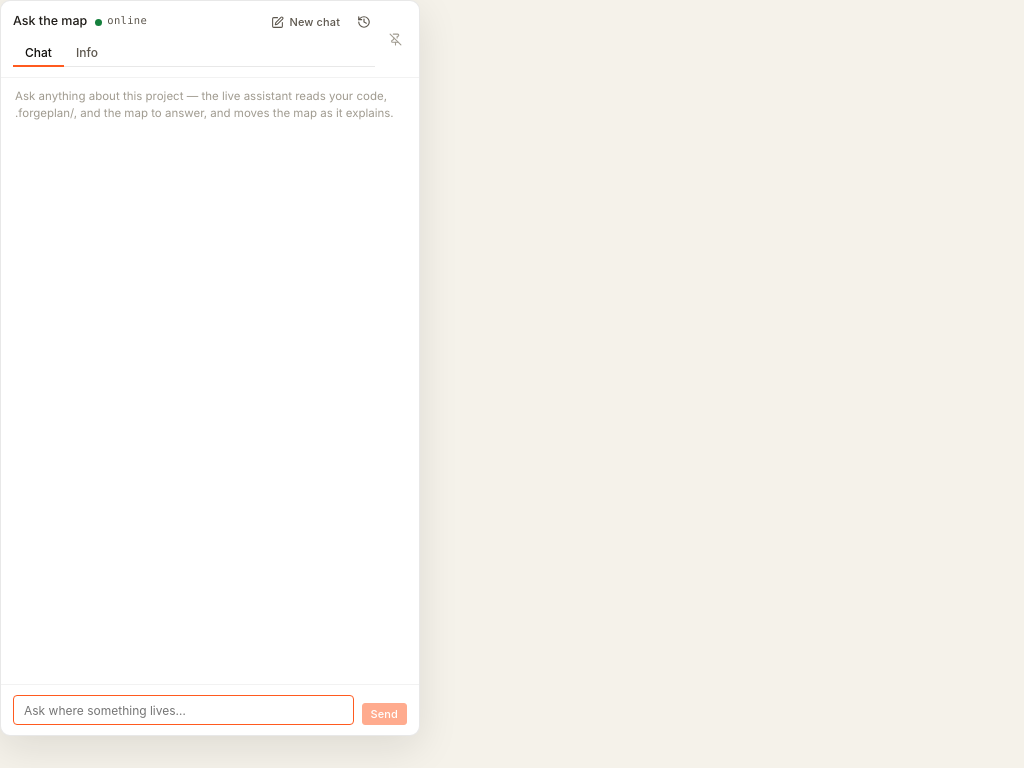
Test: MapChat — tier1 (live) › the "New chat" control clears the transcript via newChat
Type "Tell me about CLI Surfaces" into the text box named "Ask the map a question".
click(183, 710); type("Tell me about CLI Surfaces")  # box 13,695 -> 354,725
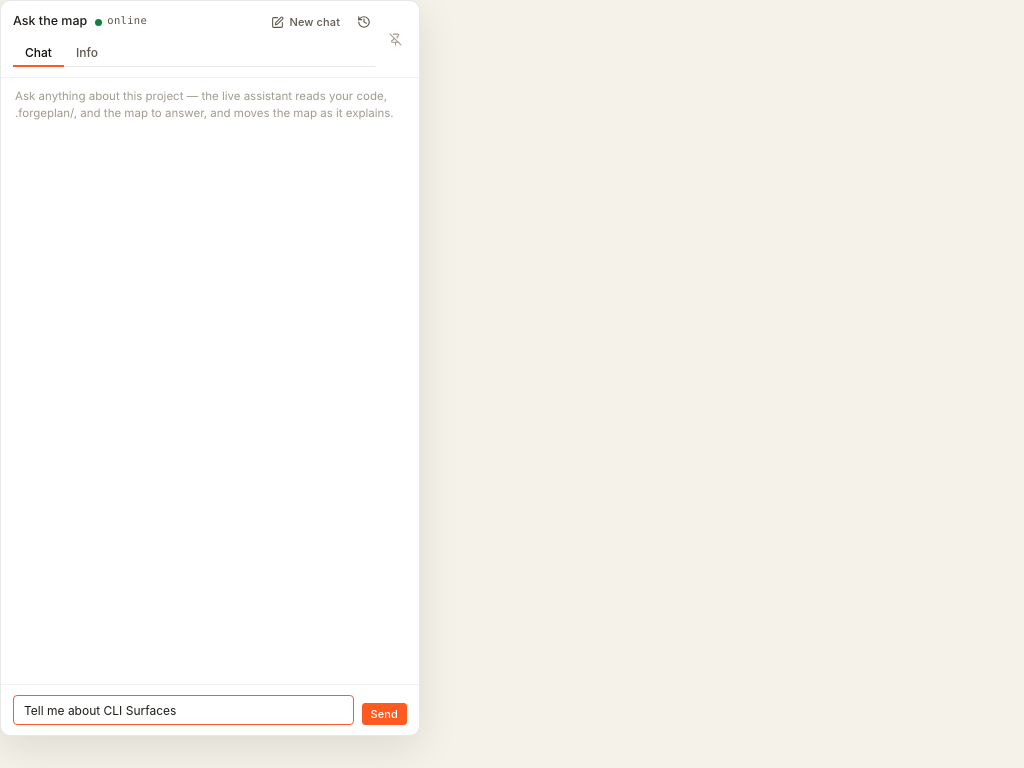
Click the button "Send".
click(384, 714)  # box 362,703 -> 407,725
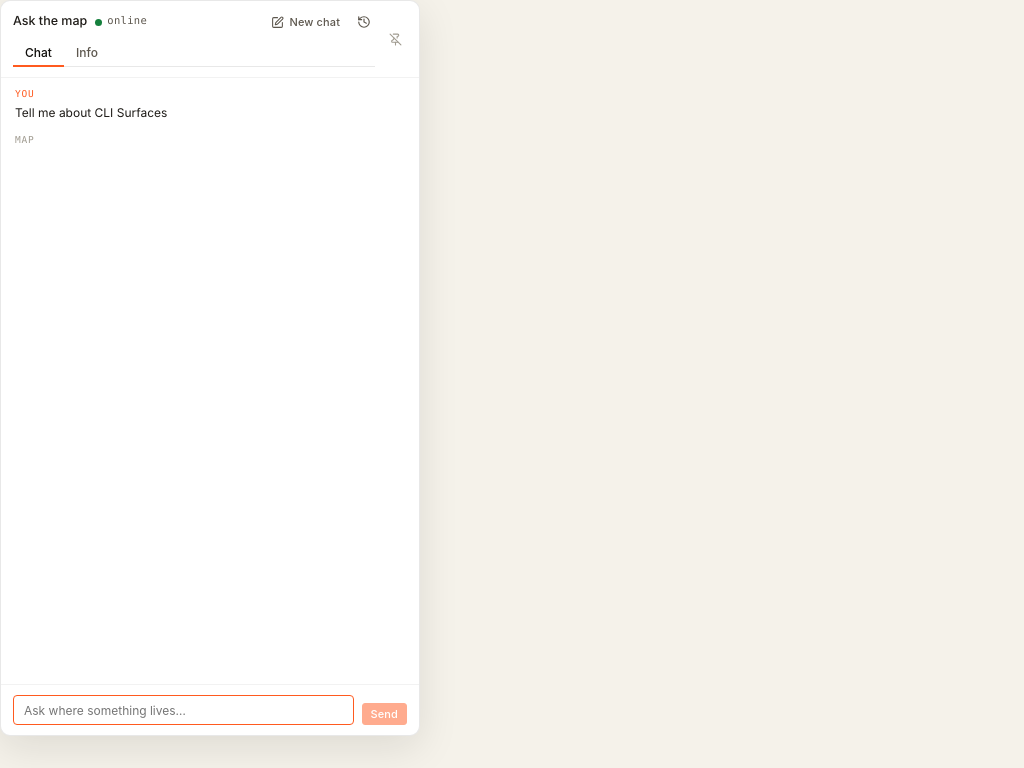
Expected: the text "CLI Surfaces" is shown, 15,105 -> 167,120
Click the button "New chat".
click(305, 22)  # box 262,11 -> 349,33
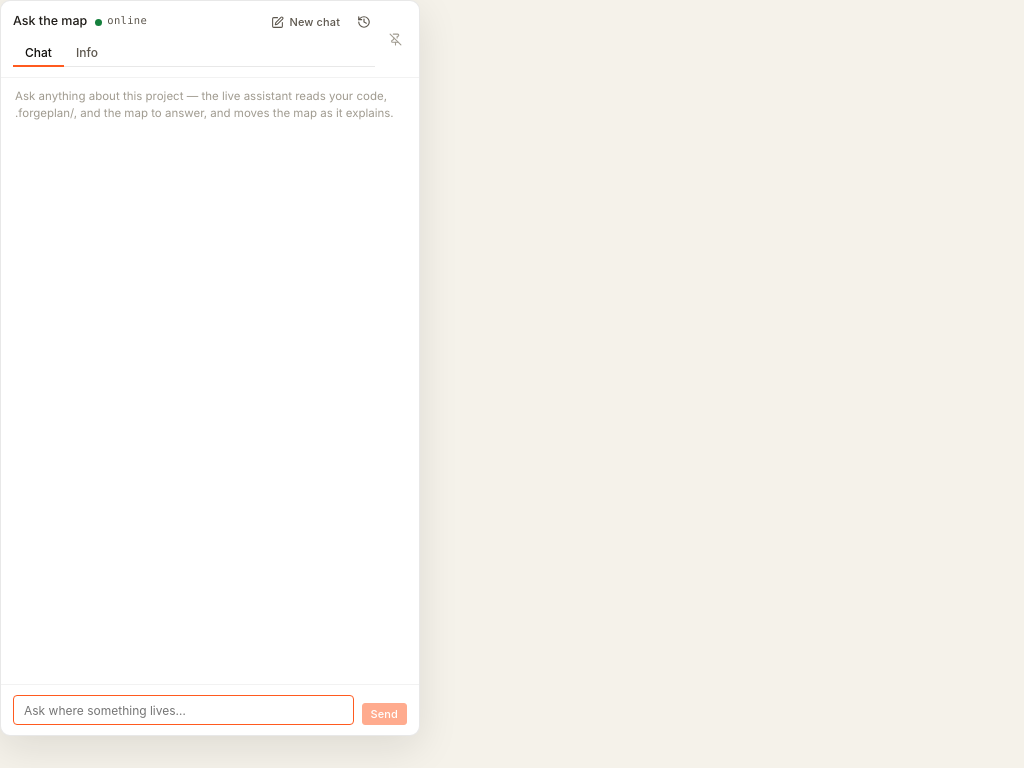
Expected: the text "Ask anything about this project" is shown, 15,89 -> 394,120
